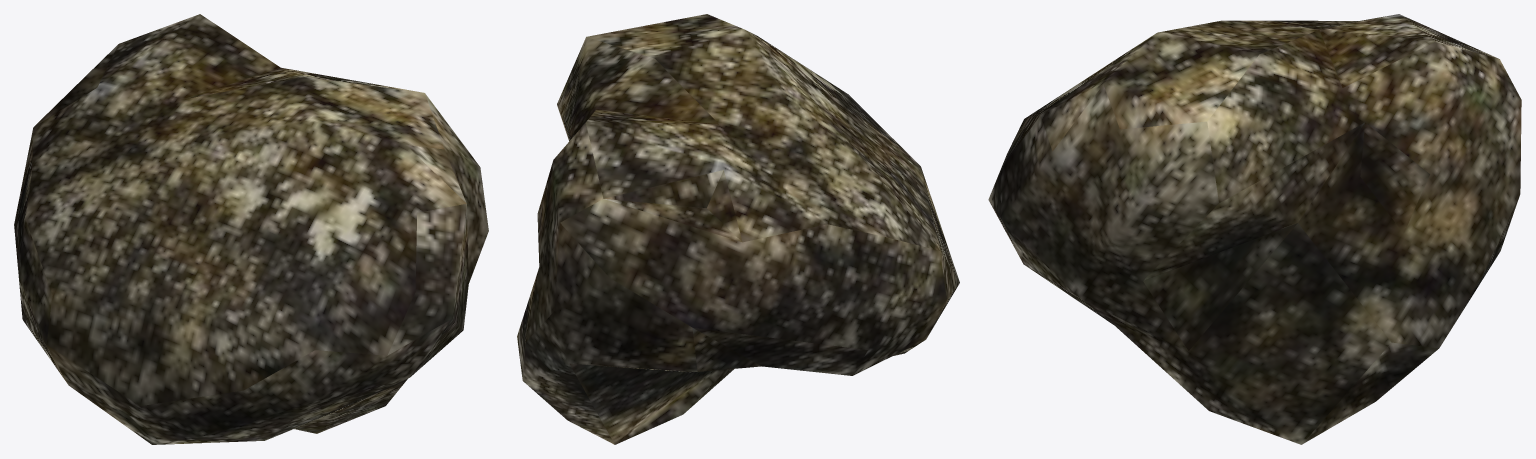
The model's file is rock004.glb.
3 renders of one model, left to right at view 1: azimuth 30°, elevation 25°; view 2: azimuth 150°, elevation 25°; view 3: azimuth 270°, elevation 25°, orthographic.
Parts seen in each view (by area): view 1: rock004; view 2: rock004; view 3: rock004.
Boxes of the visible parts, <box> form: rock004: <box>14,14,488,444</box>; rock004: <box>517,14,959,444</box>; rock004: <box>988,14,1521,444</box>.
Size of the model in its own units: 0.8271 by 0.7409 by 0.9552.
1 material, 1 textured.
